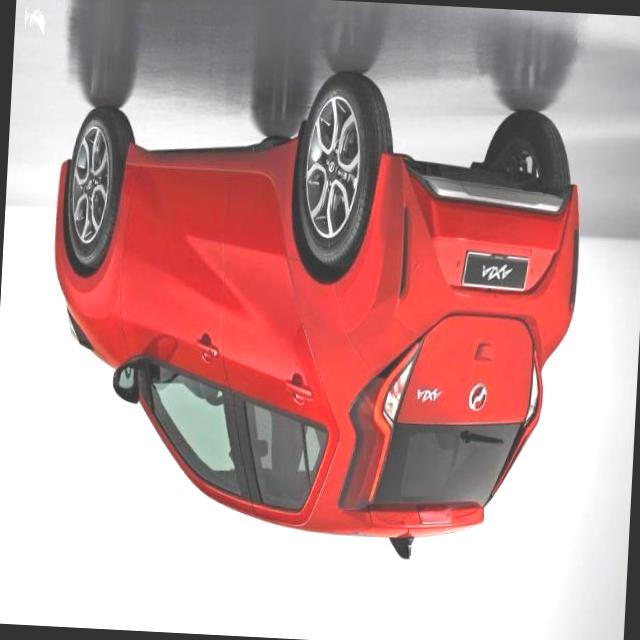PeroduaAxia: (37, 56, 590, 569)
